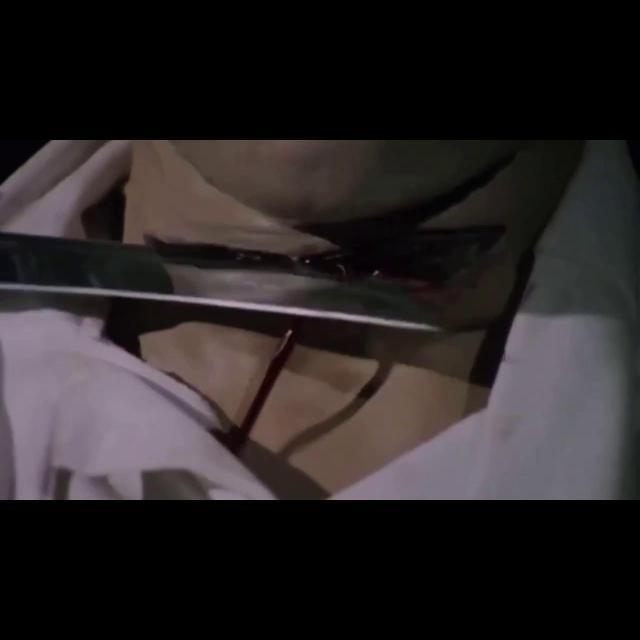blood: (144, 234, 360, 282), (242, 330, 295, 433), (369, 266, 454, 310)
